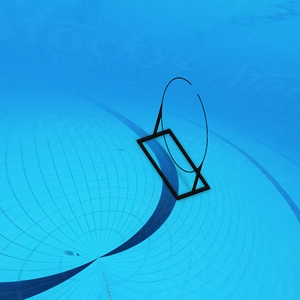circle: (135, 69, 216, 204)
